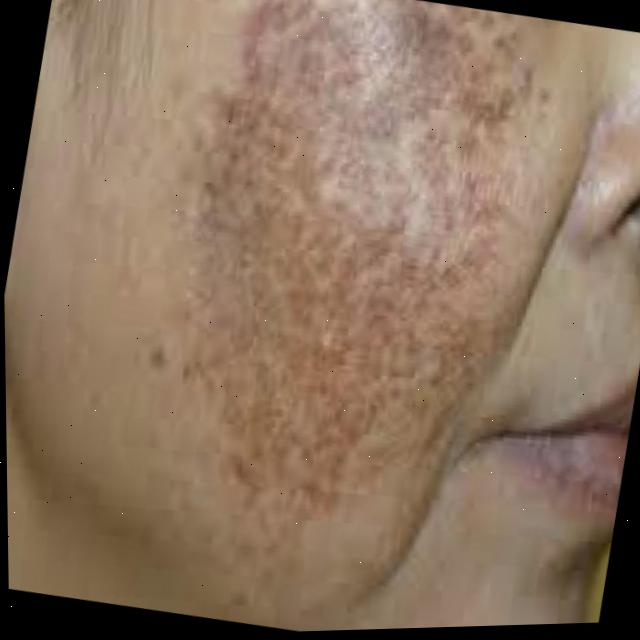Eczema: (134, 0, 530, 501)
